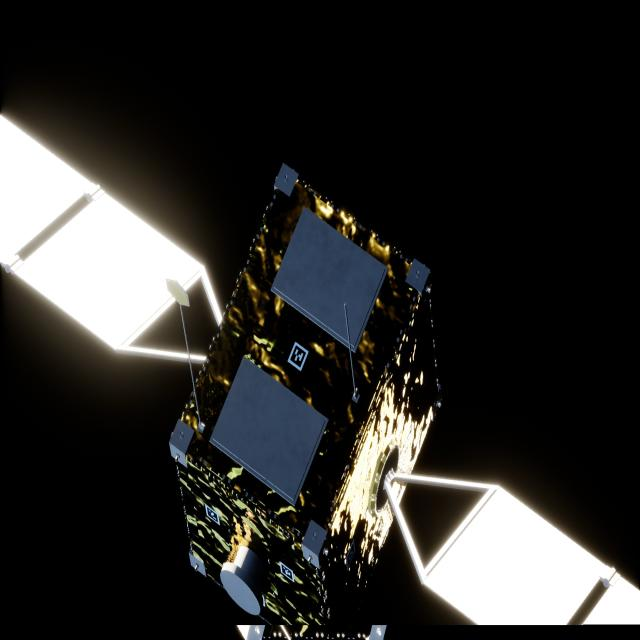medium_debris: (0, 115, 640, 632)
